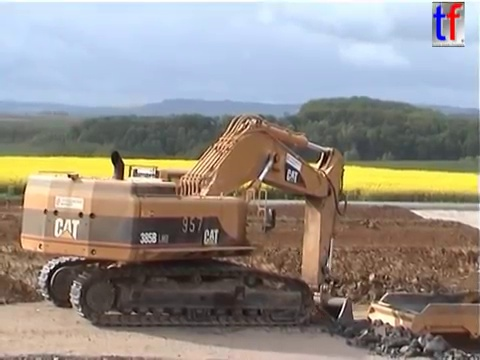excavator: (16, 111, 360, 349)
truck: (364, 288, 480, 360)
